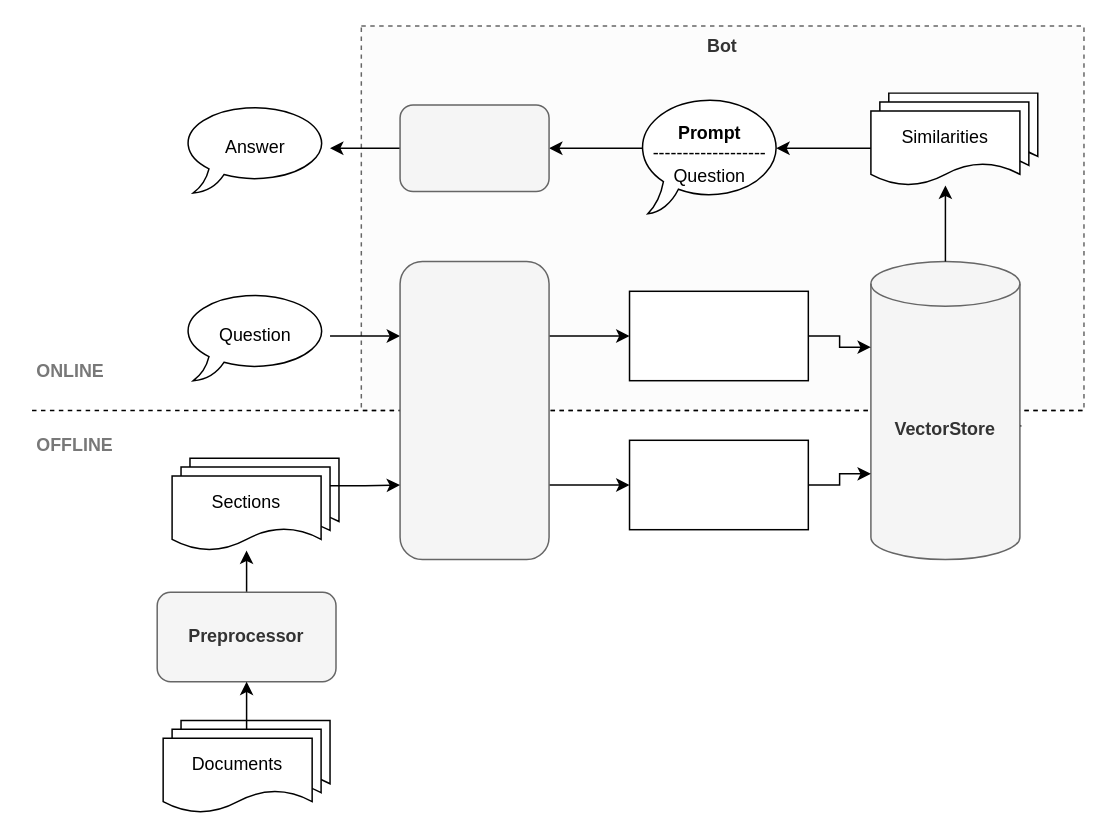
This 1115x839 diagram has some shape labels left out. The centre of each missing label's shape, as x and y in pixels:
"Encoder" goes at (474,409).
"GPT" goes at (474,147).
"Question Representation" goes at (718,335).
"Section Representations" goes at (718,484).
